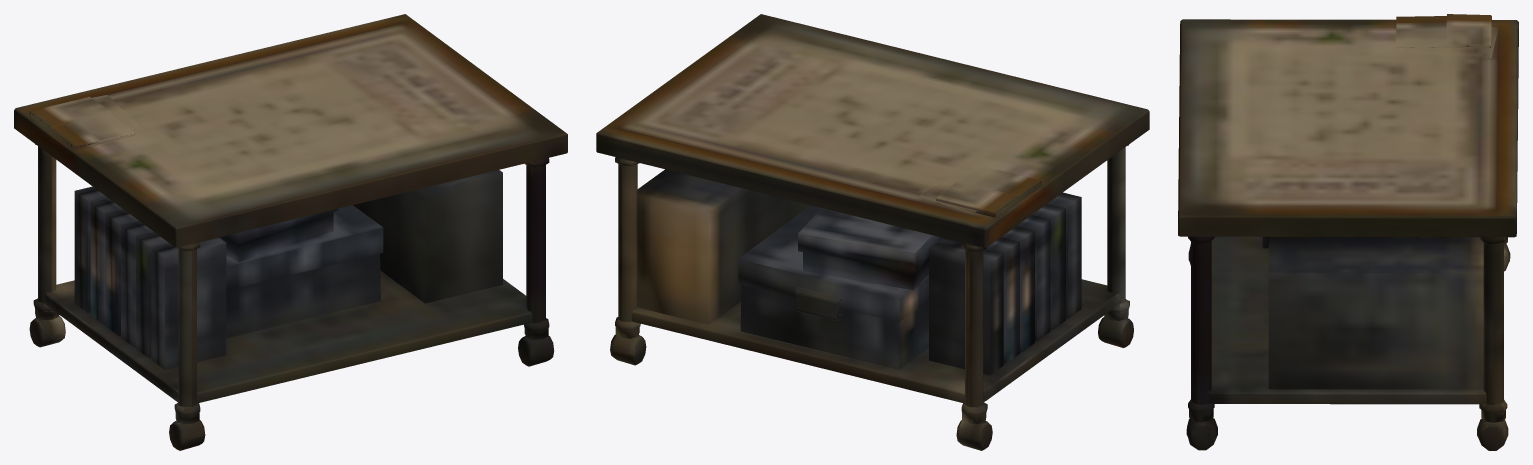
File: OparetionRoom_AI_Prop.036.fbx
The picture shows the model from 3 angles, left to right: view 1: azimuth 30°, elevation 25°; view 2: azimuth 150°, elevation 25°; view 3: azimuth 270°, elevation 25°; orthographic projection. The views are drawn at different scales.
Visible parts, largest first — view 1: OparetionRoom_AI_Prop.036; view 2: OparetionRoom_AI_Prop.036; view 3: OparetionRoom_AI_Prop.036.
Boxes of the visible parts, <box> form: OparetionRoom_AI_Prop.036: <box>14,14,567,450</box>; OparetionRoom_AI_Prop.036: <box>596,14,1149,450</box>; OparetionRoom_AI_Prop.036: <box>1178,14,1518,450</box>.
Size of the model in its own units: 128 by 74.22 by 92.61.
